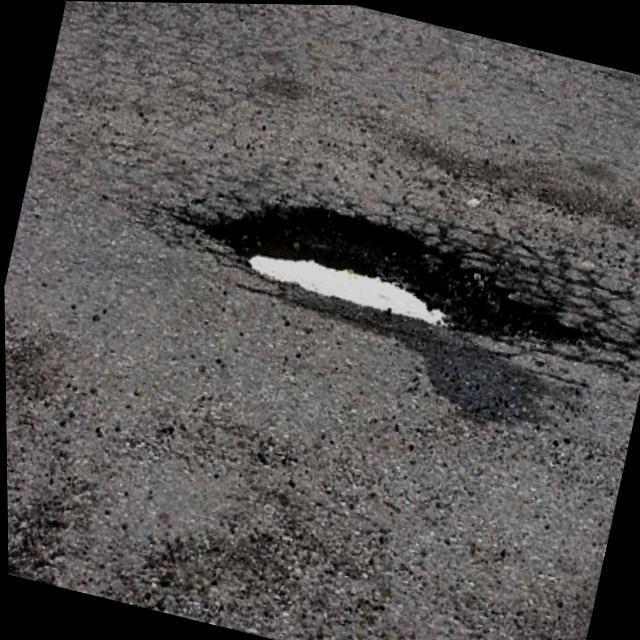Pothole: (166, 202, 607, 343)
